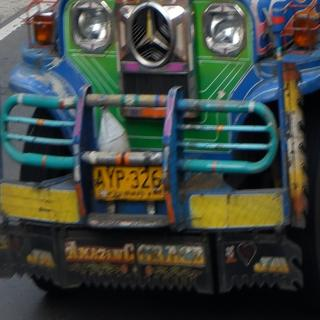license: (94, 167, 165, 202)
